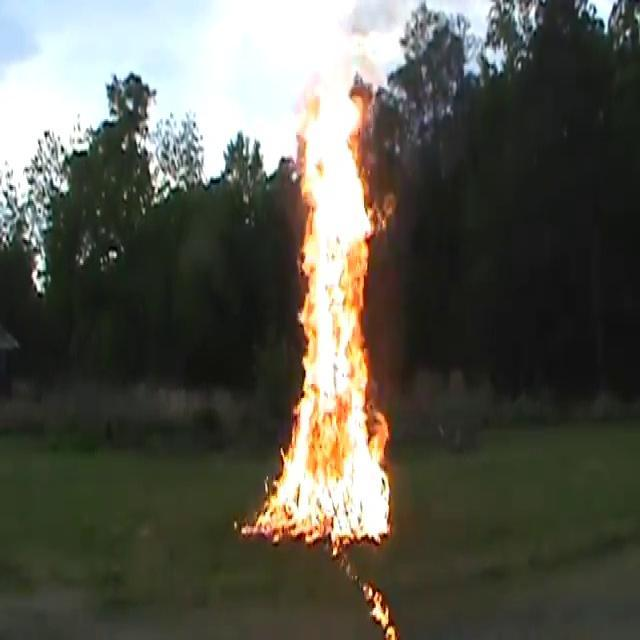Fire: (262, 46, 402, 548)
